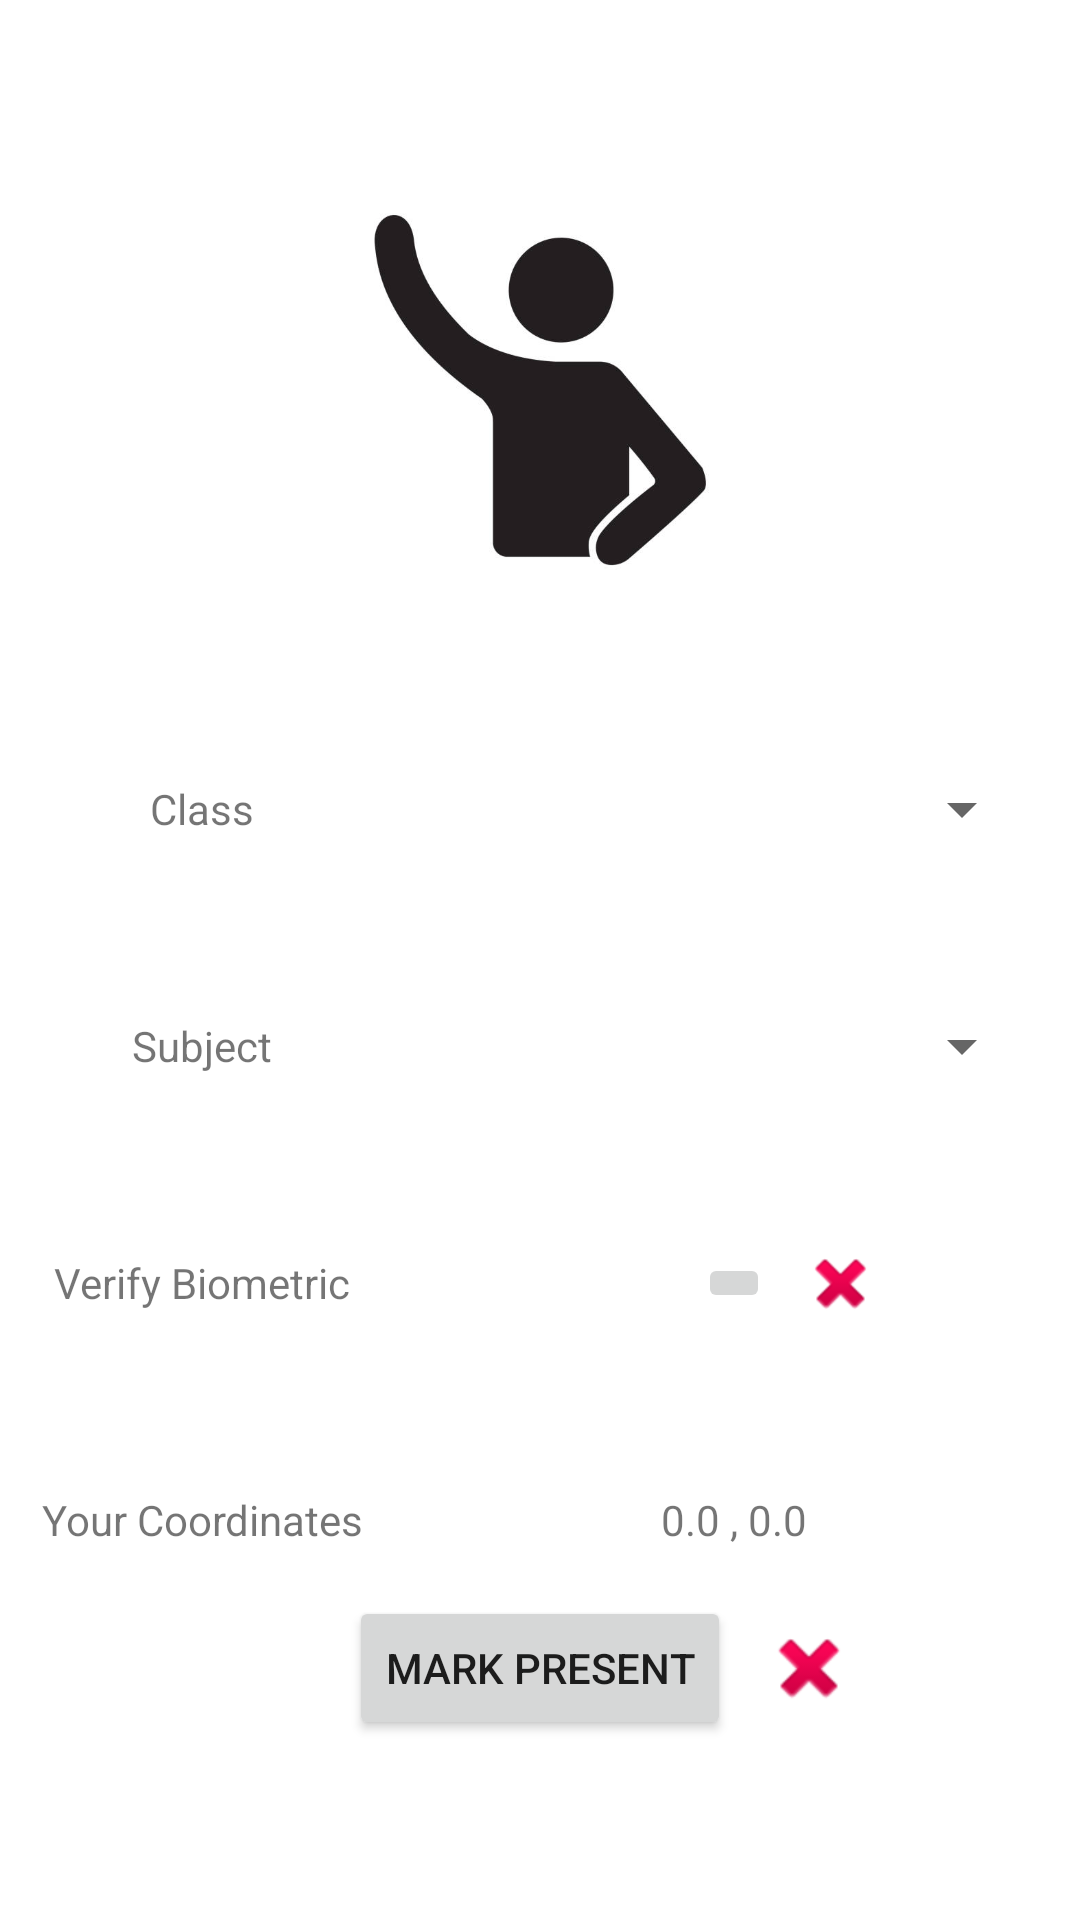

Screen size 1080px x 1920px. Icon name, then its center in pixels as (x=x, y=y):
delete: (x=840, y=1284), (x=809, y=1668)
student raise hand: (x=540, y=390)
